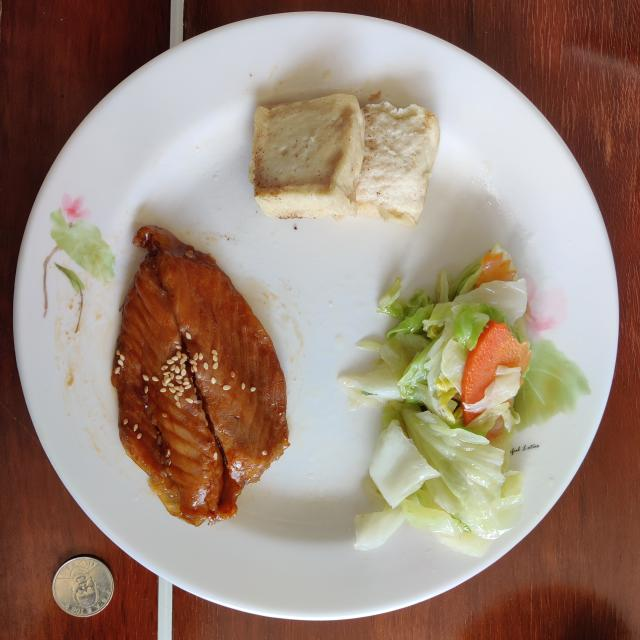Kabayaki sea bream fillet: (111, 226, 289, 525)
cabbage: (340, 244, 531, 556)
coin: (52, 556, 114, 618)
creamy tofu -without sauce-: (249, 94, 440, 226)
